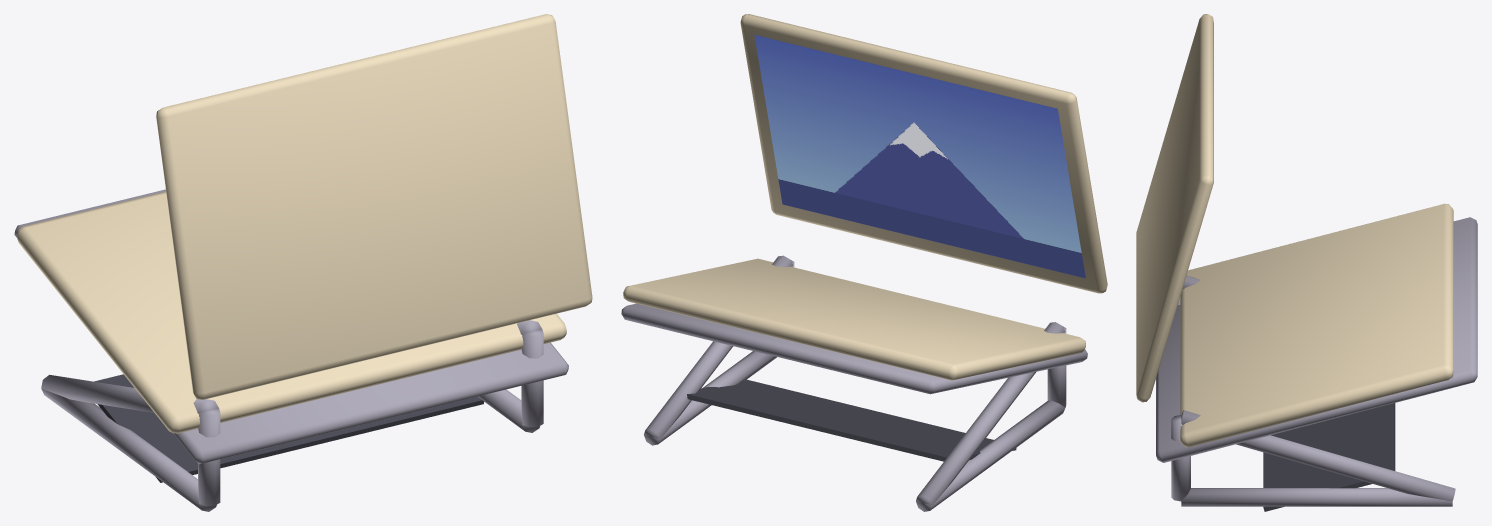
Rendered from junior_laptop_stand.glb.
3 views of the same model, side by side, from view 1: azimuth 30°, elevation 25°; view 2: azimuth 150°, elevation 25°; view 3: azimuth 270°, elevation 25° (orthographic). The views are drawn at different scales.
Parts seen in each view (by area): view 1: junior_laptop_stand__Cream, junior_laptop_stand__Metal, junior_laptop_stand__DarkGrey; view 2: junior_laptop_stand__ScreenTex, junior_laptop_stand__Cream, junior_laptop_stand__Metal, junior_laptop_stand__DarkGrey; view 3: junior_laptop_stand__Cream, junior_laptop_stand__Metal, junior_laptop_stand__DarkGrey.
Part boxes in pixels (x1,y1,x2,y2): junior_laptop_stand__Cream: (16,14,592,433); junior_laptop_stand__Metal: (14,189,568,511); junior_laptop_stand__DarkGrey: (94,374,483,482); junior_laptop_stand__ScreenTex: (754,35,1085,278); junior_laptop_stand__Cream: (623,14,1107,380); junior_laptop_stand__Metal: (621,255,1087,511); junior_laptop_stand__DarkGrey: (687,379,1016,461); junior_laptop_stand__Cream: (1136,14,1453,447); junior_laptop_stand__Metal: (1156,217,1477,506); junior_laptop_stand__DarkGrey: (1263,403,1395,511).
Bounding box in the file's own units: 0.32 × 0.3125 × 0.2768.
Materials: 4 (1 with a texture image).
